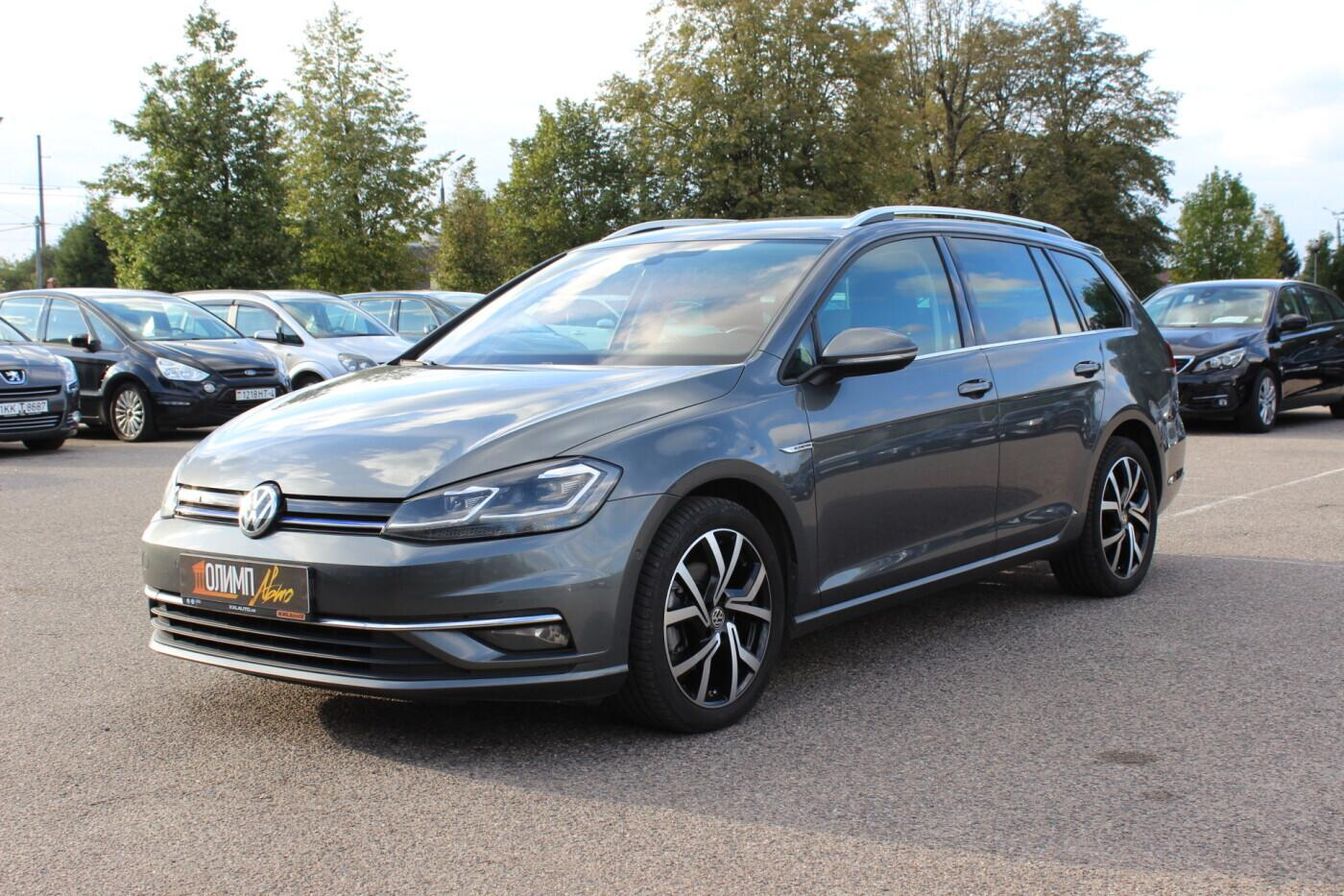Golf_2017-2021: (134, 207, 1193, 729)
